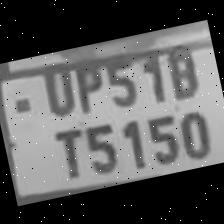0: (169, 102, 214, 162)
1: (130, 38, 169, 104), (111, 111, 150, 171)
5: (94, 43, 142, 111), (75, 114, 122, 176), (137, 107, 181, 166)
B: (158, 39, 203, 101)
P: (64, 48, 110, 116)
T: (44, 119, 90, 181)
U: (30, 50, 80, 119)
